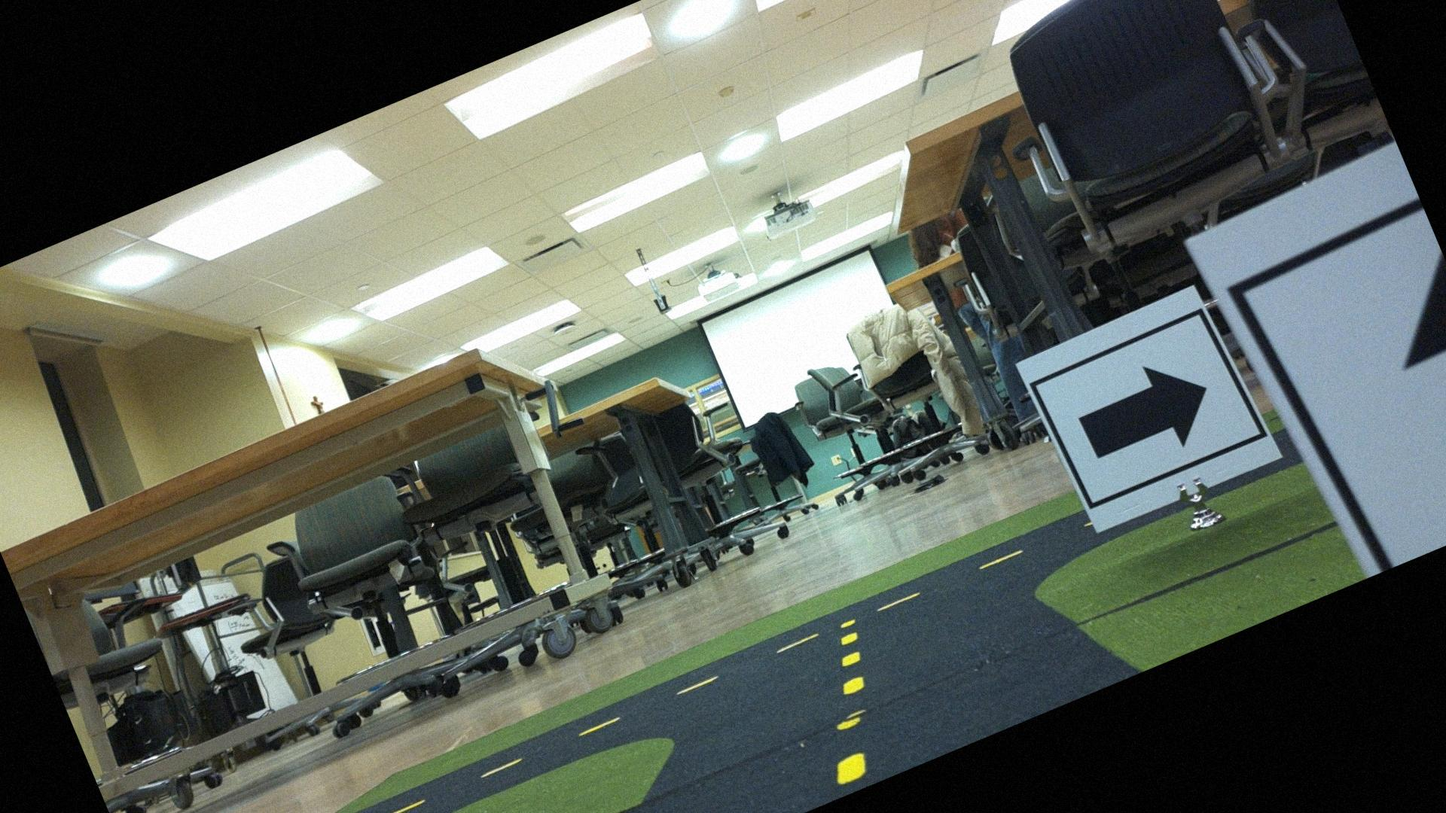turnleft: (1024, 286, 1271, 529)
yellowline: (786, 629, 907, 787)
